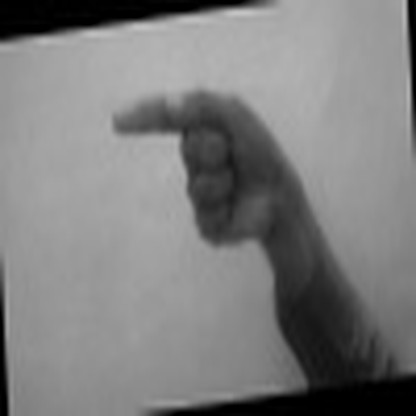g: (95, 67, 304, 249)
